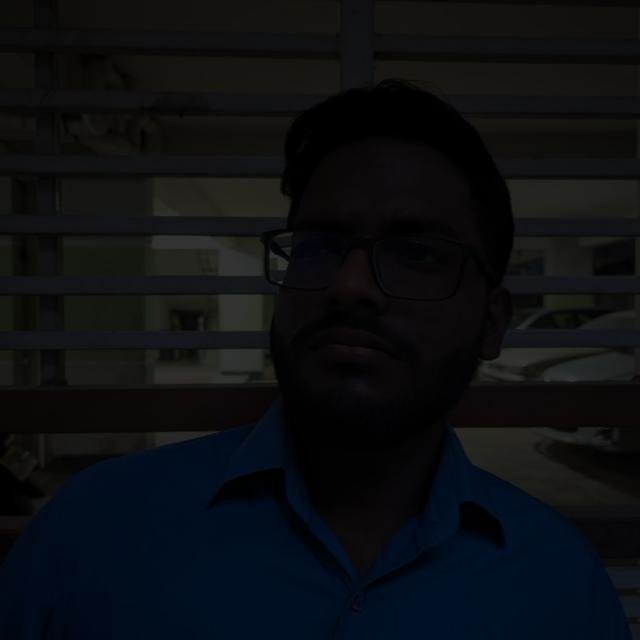Sad: (207, 133, 477, 448)
